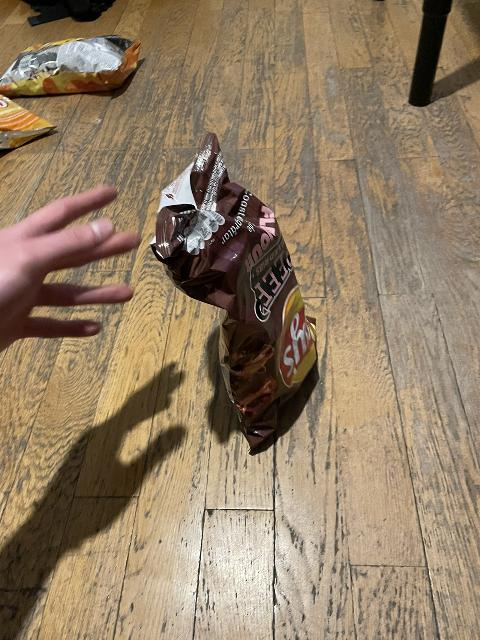Chio Cascaval 125g: (0, 35, 142, 98)
Chio Hula Hoops Cheese 70g: (155, 136, 317, 437), (0, 90, 58, 149)
